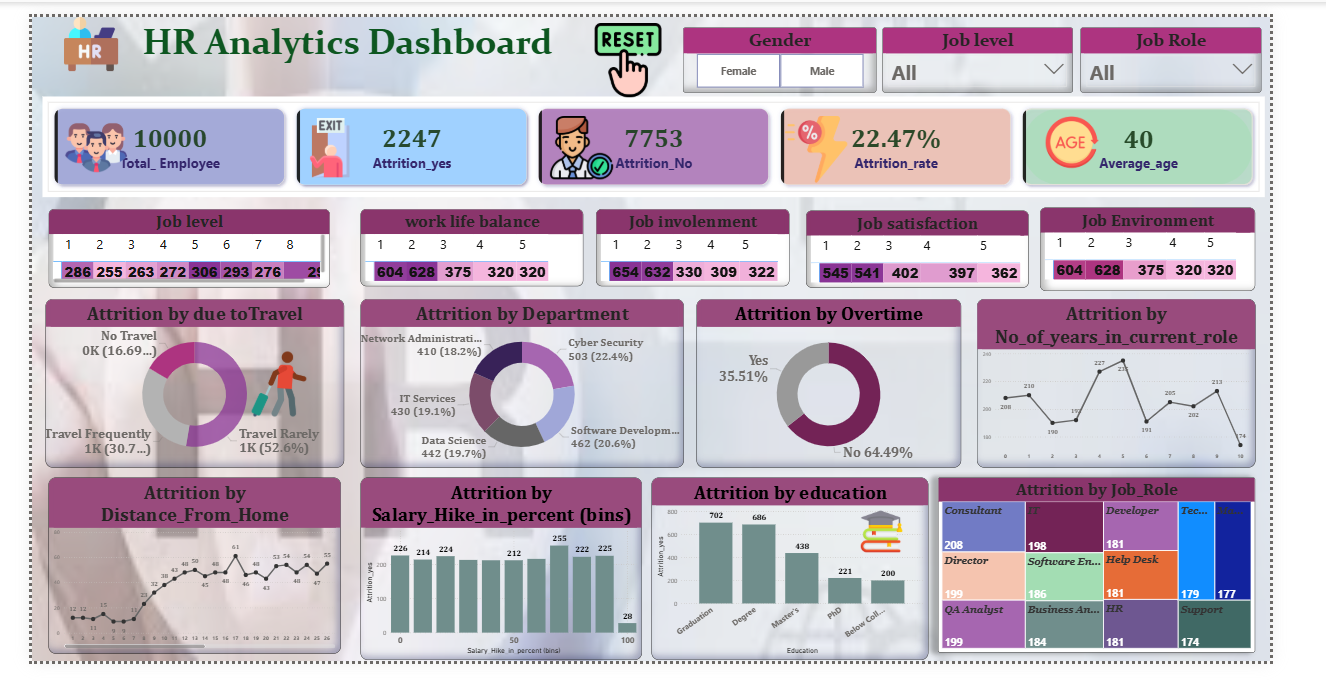

The page's visual inventory and layout, read from the dashboard file:
{"tool":"powerbi","page":{"name":"Page 1","canvas":[2500,1300],"ordinal":0},"visuals":[{"type":"cardVisual","fields":{"Data":["CountNonNull(hr_dashbord.Employee_ID)","hr_dashbord.Attrition_yes","hr_dashbord.Attrition_No","hr_dashbord.Attrition_rate","hr_dashbord.Average_age"]},"box":[15.6,153.1,2484.4,215.6],"z":0},{"type":"donutChart","title":"Attrition by Department","fields":{"Category":["hr_dashbord.Department"],"Y":["hr_dashbord.Attrition_yes"]},"box":[662.5,568.8,653.1,340.6],"z":1000},{"type":"treemap","title":"Attrition by Job_Role","fields":{"Group":["hr_dashbord.Job_Role"],"Values":["hr_dashbord.Attrition_yes"]},"box":[1831.2,931.2,640.6,353.1],"z":2000},{"type":"lineChart","title":"Attrition by Distance_From_Home","fields":{"Y":["hr_dashbord.Attrition_yes"],"Category":["hr_dashbord.Distance_From_Home"]},"box":[34.4,931.2,590.6,356.2],"z":3000},{"type":"donutChart","title":"Attrition by Overtime","fields":{"Y":["hr_dashbord.Attrition_yes"],"Category":["hr_dashbord.Overtime"]},"box":[1343.8,568.8,534.4,340.6],"z":4000},{"type":"pivotTable","title":"Job satisfaction","fields":{"Values":["hr_dashbord.Attrition_yes"],"Columns":["hr_dashbord.Job_Satisfaction"]},"box":[1562.5,390.6,450,156.2],"z":5000},{"type":"pivotTable","title":"Job level","fields":{"Values":["hr_dashbord.Attrition_yes"],"Columns":["hr_dashbord.Job_Level"]},"box":[34.4,387.5,568.8,159.4],"z":6000},{"type":"pivotTable","title":"Job Environment","fields":{"Columns":["hr_dashbord.Work_life_balance"],"Values":["hr_dashbord.Attrition_yes"]},"box":[2037.5,384.4,434.4,168.8],"z":7000},{"type":"donutChart","title":"Attrition by due toTravel","fields":{"Category":["hr_dashbord.Business_Travel"],"Y":["hr_dashbord.Attrition_yes"]},"box":[28.1,568.8,603.1,340.6],"z":8000},{"type":"lineChart","title":"Attrition by No_of_years_in_current_role","fields":{"Category":["hr_dashbord.No_of_years_in_current_role"],"Y":["hr_dashbord.Attrition_yes"]},"box":[1909.4,568.8,562.5,340.6],"z":9000},{"type":"columnChart","title":"Attrition by Salary_Hike_in_percent (bins)","fields":{"Y":["hr_dashbord.Attrition_yes"],"Category":["hr_dashbord.Salary_Hike_in_percent (bins)"]},"box":[662.5,931.2,568.8,368.8],"z":10000},{"type":"columnChart","title":"Attrition by education","fields":{"Y":["hr_dashbord.Attrition_yes"],"Category":["hr_dashbord.Education"]},"box":[1250,931.2,559.4,368.8],"z":11000},{"type":"pivotTable","title":"work life balance","fields":{"Values":["hr_dashbord.Attrition_yes"],"Columns":["hr_dashbord.Work_life_balance"]},"box":[662.5,387.5,450,156.2],"z":12000},{"type":"textbox","box":[206.2,0,862.5,109.4],"z":13000},{"type":"image","box":[34.4,0,171.9,109.4],"z":14000},{"type":"slicer","title":"Gender","fields":{"Values":["hr_dashbord.Gender"]},"box":[1315.6,21.9,390.6,131.2],"z":15000},{"type":"pivotTable","title":"Job involenment","fields":{"Values":["hr_dashbord.Attrition_yes"],"Columns":["hr_dashbord.Job_Involvement"]},"box":[1140.6,387.5,390.6,156.2],"z":16000},{"type":"slicer","title":"Job level","fields":{"Values":["hr_dashbord.Job_Level"]},"box":[1718.8,21.9,384.4,131.2],"z":17000},{"type":"slicer","title":"Job Role","fields":{"Values":["hr_dashbord.Job_Role"]},"box":[2118.8,21.9,365.6,131.2],"z":18000},{"type":"image","box":[56.2,200,143.8,128.1],"z":19000},{"type":"image","box":[500,200,203.1,128.1],"z":20000},{"type":"image","box":[1025,200,171.9,128.1],"z":21000},{"type":"image","box":[1512.5,200,143.8,134.4],"z":22000},{"type":"image","box":[2015.6,200,171.9,106.2],"z":23000},{"type":"image","box":[428.1,675,143.8,131.2],"z":24000},{"type":"image","box":[1631.2,996.9,171.9,84.4],"z":25000},{"type":"image","box":[1121.9,12.5,165.6,150],"z":26000}]}

Visuals, with their boxes in screenshot pixels (x1, y1, x2, y2), scaled from the page's 2500x1300 canvas onto the 1326x700 screenshot:
cardVisual - CountNonNull(hr_dashbord.Employee_ID) x hr_dashbord.Attrition_yes: x1=8, y1=82, x2=1325, y2=199
"Attrition by Department" donutChart: x1=351, y1=306, x2=698, y2=490
"Attrition by Job_Role" treemap: x1=971, y1=501, x2=1311, y2=692
"Attrition by Distance_From_Home" lineChart: x1=18, y1=501, x2=332, y2=693
"Attrition by Overtime" donutChart: x1=713, y1=306, x2=996, y2=490
"Job satisfaction" pivotTable: x1=829, y1=210, x2=1067, y2=294
"Job level" pivotTable: x1=18, y1=209, x2=320, y2=294
"Job Environment" pivotTable: x1=1081, y1=207, x2=1311, y2=298
"Attrition by due toTravel" donutChart: x1=15, y1=306, x2=335, y2=490
"Attrition by No_of_years_in_current_role" lineChart: x1=1013, y1=306, x2=1311, y2=490
"Attrition by Salary_Hike_in_percent (bins)" columnChart: x1=351, y1=501, x2=653, y2=699
"Attrition by education" columnChart: x1=663, y1=501, x2=960, y2=699
"work life balance" pivotTable: x1=351, y1=209, x2=590, y2=293
textbox: x1=109, y1=0, x2=567, y2=59
image: x1=18, y1=0, x2=109, y2=59
"Gender" slicer: x1=698, y1=12, x2=905, y2=82
"Job involenment" pivotTable: x1=605, y1=209, x2=812, y2=293
"Job level" slicer: x1=912, y1=12, x2=1116, y2=82
"Job Role" slicer: x1=1124, y1=12, x2=1318, y2=82
image: x1=30, y1=108, x2=106, y2=177
image: x1=265, y1=108, x2=373, y2=177
image: x1=544, y1=108, x2=635, y2=177
image: x1=802, y1=108, x2=879, y2=180
image: x1=1069, y1=108, x2=1160, y2=165
image: x1=227, y1=363, x2=303, y2=434
image: x1=865, y1=537, x2=956, y2=582
image: x1=595, y1=7, x2=683, y2=88
